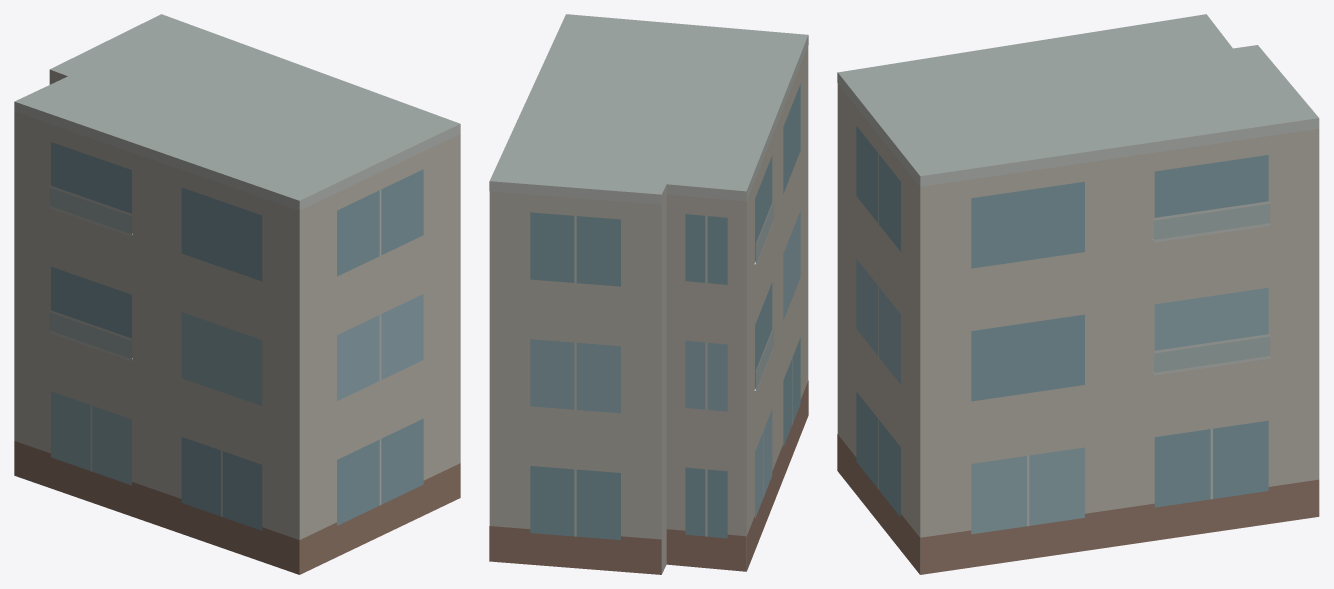
The model's file is survey-upis-32926480.glb.
3 views of the same model, side by side, from view 1: azimuth 30°, elevation 25°; view 2: azimuth 150°, elevation 25°; view 3: azimuth 270°, elevation 25° (orthographic). The views are drawn at different scales.
Visible parts, largest first — view 1: survey-upis-32926480.tmp; view 2: survey-upis-32926480.tmp; view 3: survey-upis-32926480.tmp.
Boxes of the visible parts, x1,y1,x2,y2 form: survey-upis-32926480.tmp: (14, 14, 460, 574); survey-upis-32926480.tmp: (489, 14, 808, 574); survey-upis-32926480.tmp: (837, 14, 1319, 574).
Bounding box in the file's own units: 8 × 9.15 × 10.03.
